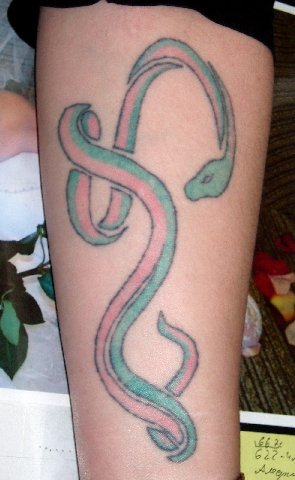tatu7_zmeya: (42, 27, 244, 466)
